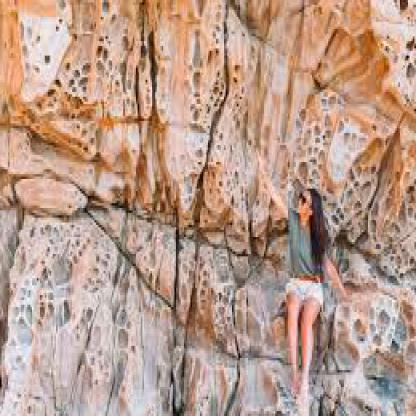Metamorphic_Quartize: (0, 0, 264, 414)
